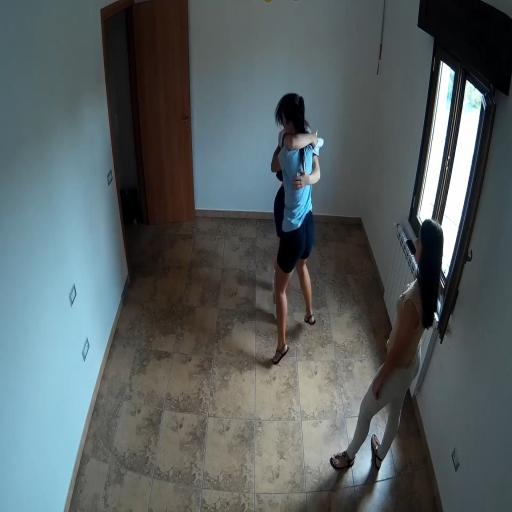nao-violencia: (256, 80, 336, 377)
